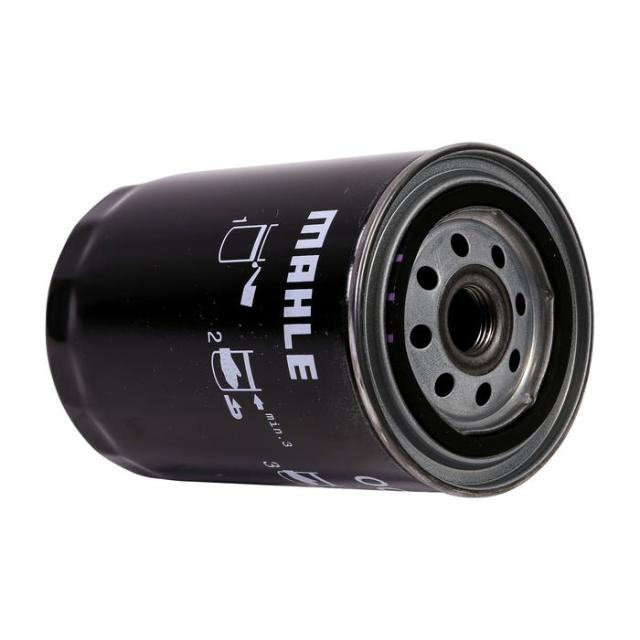oil_filter: (38, 147, 590, 493)
